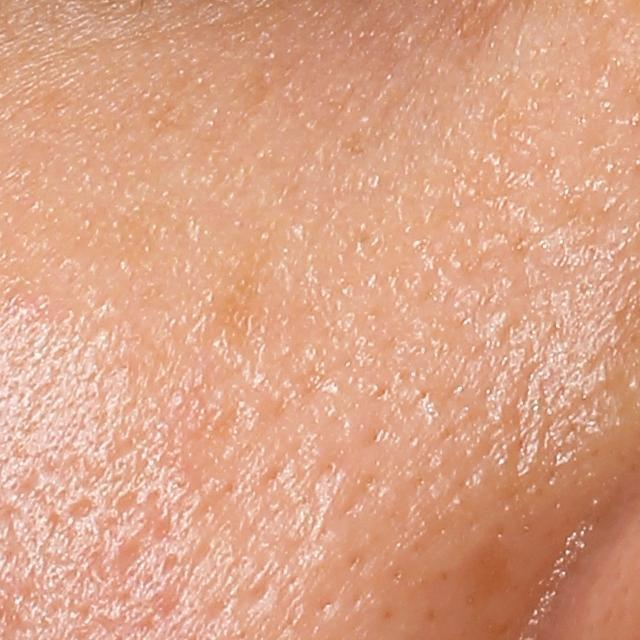atrophic_scar: (90, 491, 165, 587), (58, 492, 95, 523)
